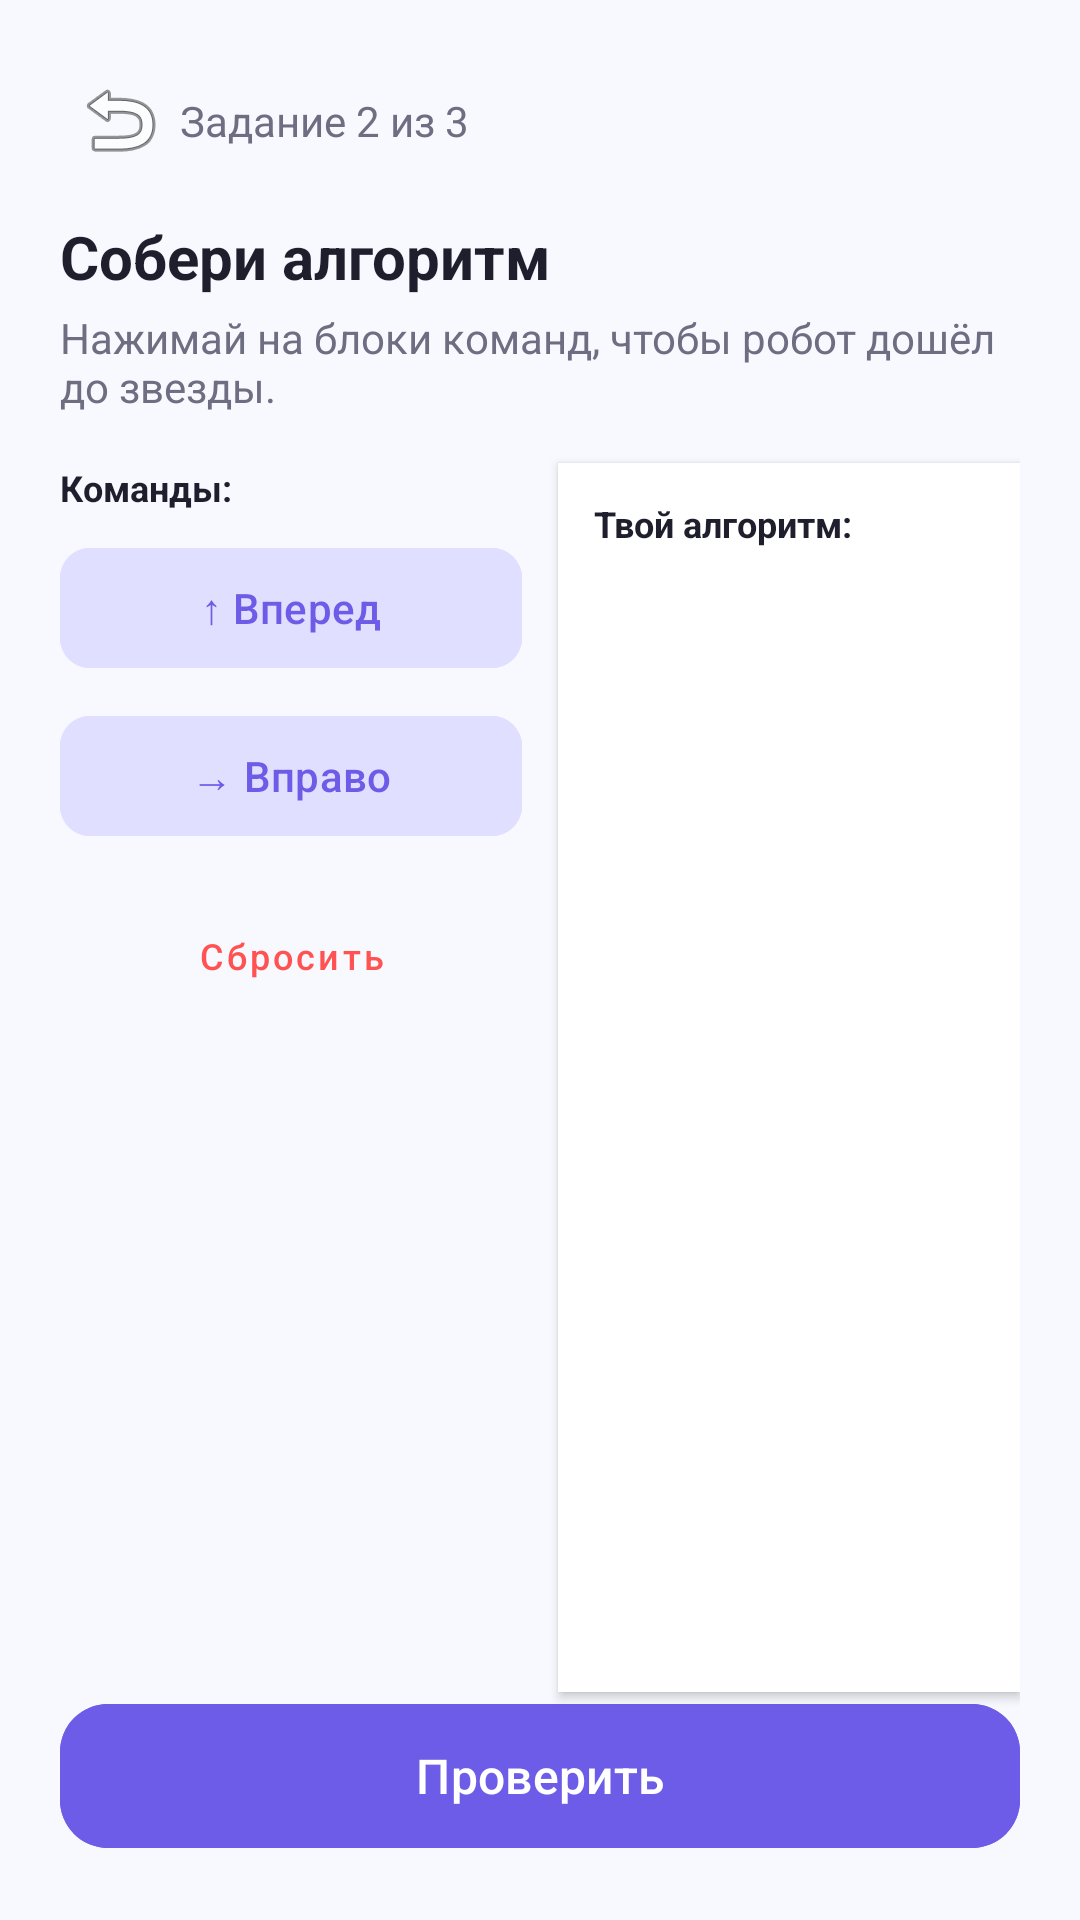

Icon bounding boxes for this 1080w x 1920h phone screenshot, format (x1, y1, x2, y2):
Назад: (87, 89, 156, 152)
